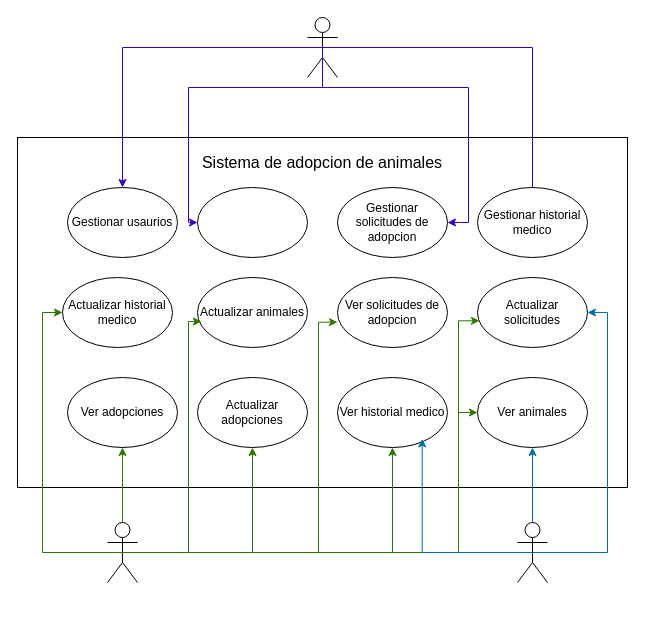
Some shapes in this 645 by 636 pixel diagram are drawn without their labels. The centre of each missing label's shape, as x and y in pixels:
"Admin" belongs at [322,47].
"Gestionar animales" belongs at [252,222].
"Visitante" belongs at [532,552].
"Voluntaraio" belongs at [122,552].
